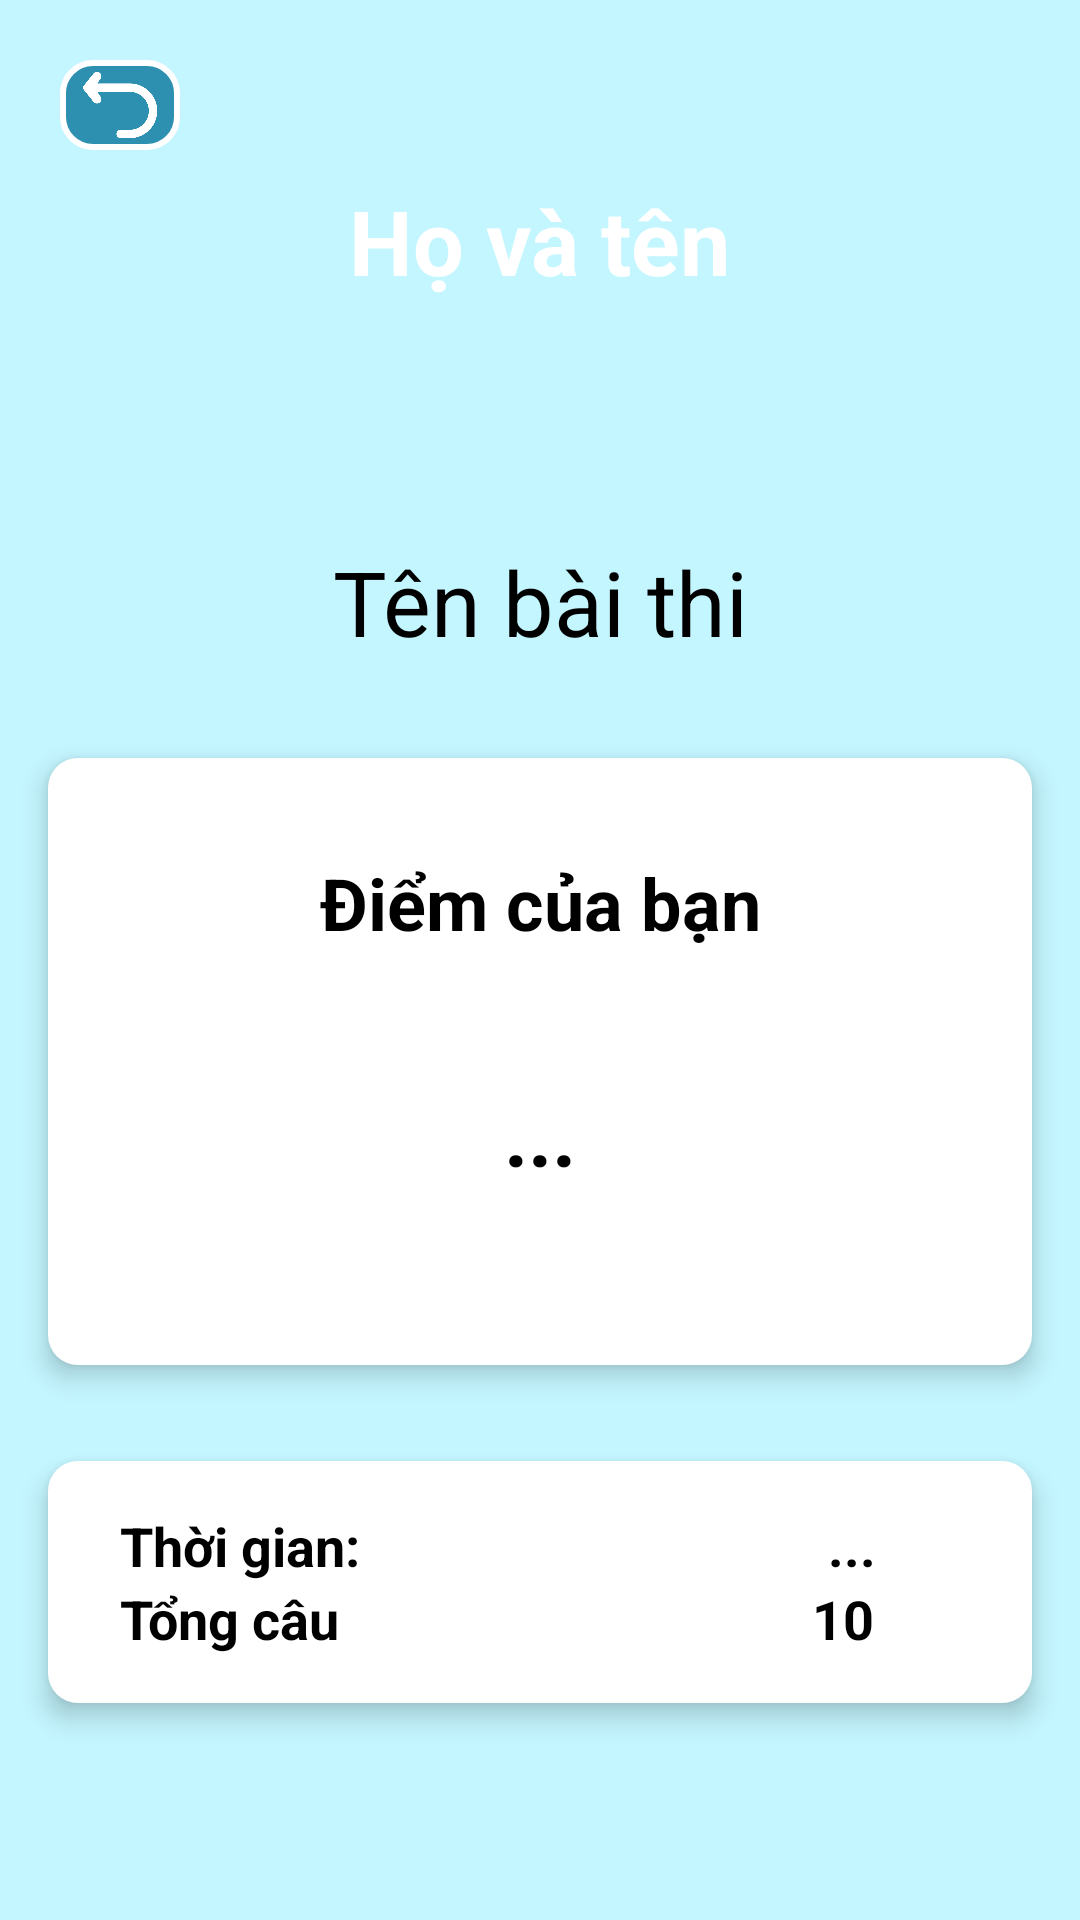

Named icons in this screenshot (1080px×1920px) and their centers, (x=x, y=y):
back: (x=120, y=105)
